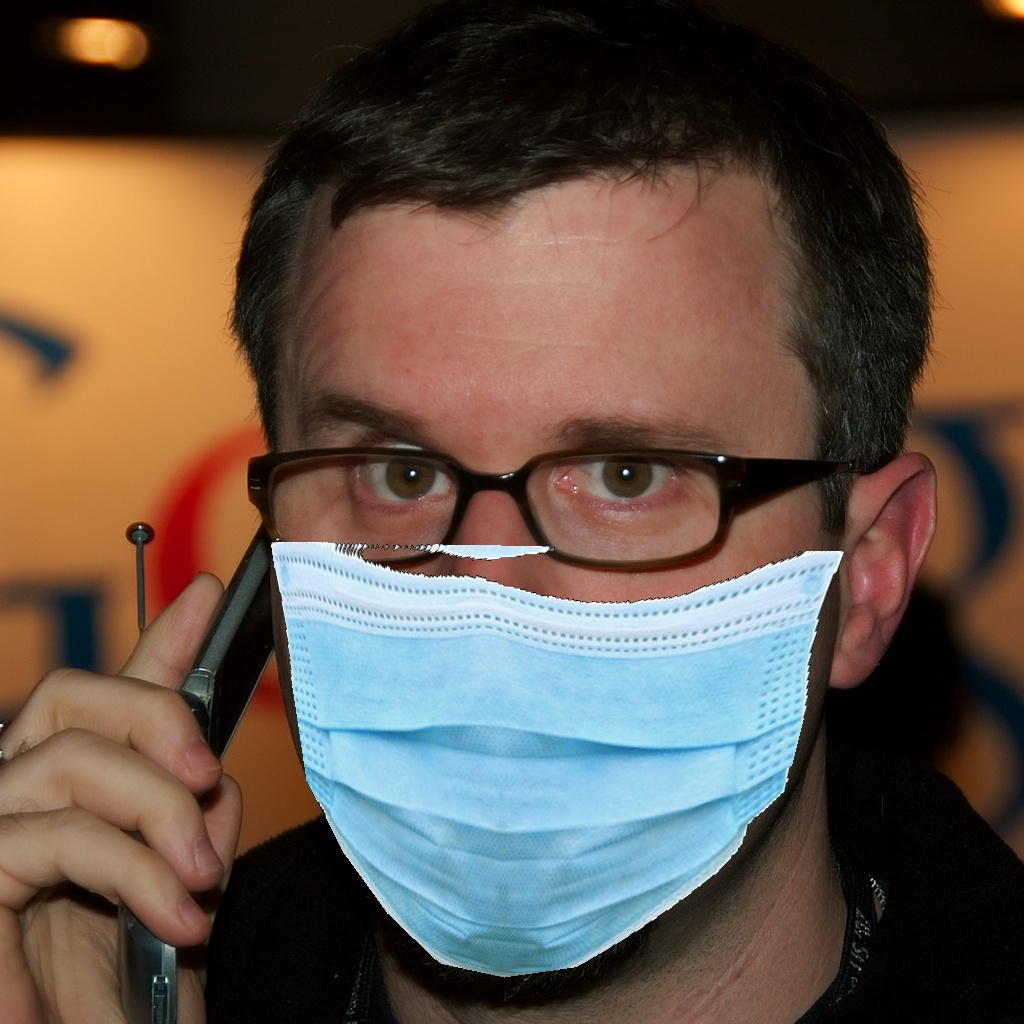Mask: (214, 343, 789, 904)
